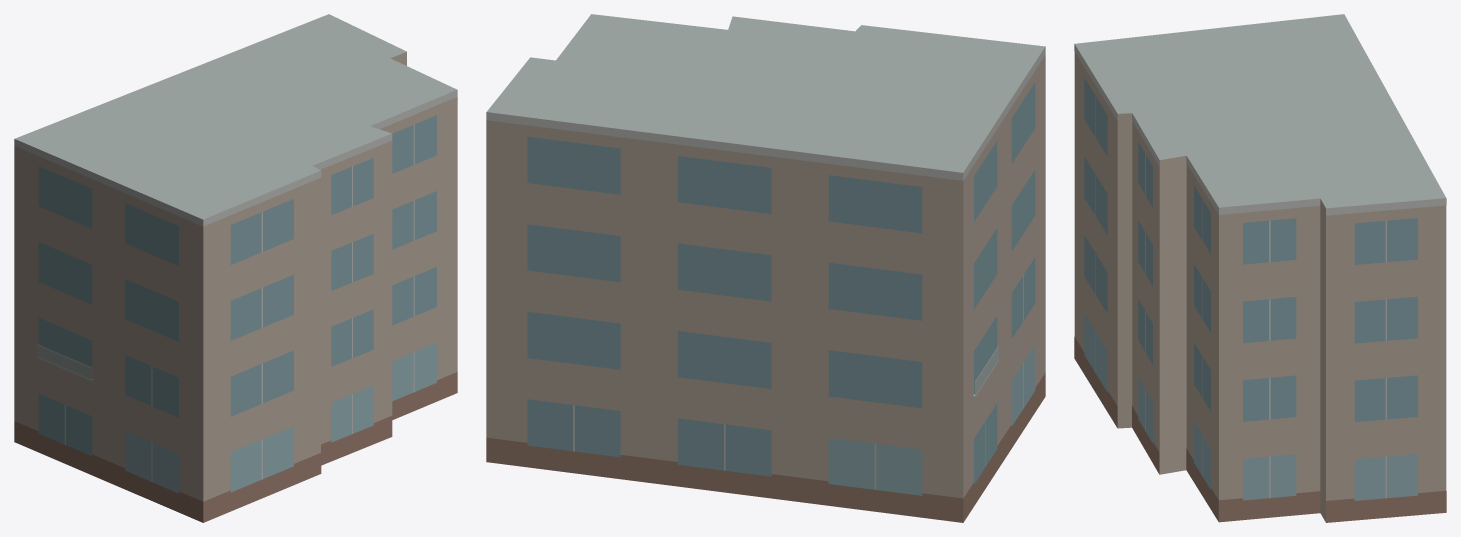
The model's file is survey-upis-33018676.glb.
3 views of the same model, side by side, from view 1: azimuth 30°, elevation 25°; view 2: azimuth 150°, elevation 25°; view 3: azimuth 270°, elevation 25° (orthographic). The views are drawn at different scales.
Visible parts, largest first — view 1: survey-upis-33018676.tmp; view 2: survey-upis-33018676.tmp; view 3: survey-upis-33018676.tmp.
Part boxes in pixels (box(x1,y1,x2,y2)): survey-upis-33018676.tmp: box(14, 14, 457, 522); survey-upis-33018676.tmp: box(486, 14, 1045, 522); survey-upis-33018676.tmp: box(1074, 14, 1446, 522).
Bounding box in the file's own units: 14.06 × 10.6 × 11.37.
